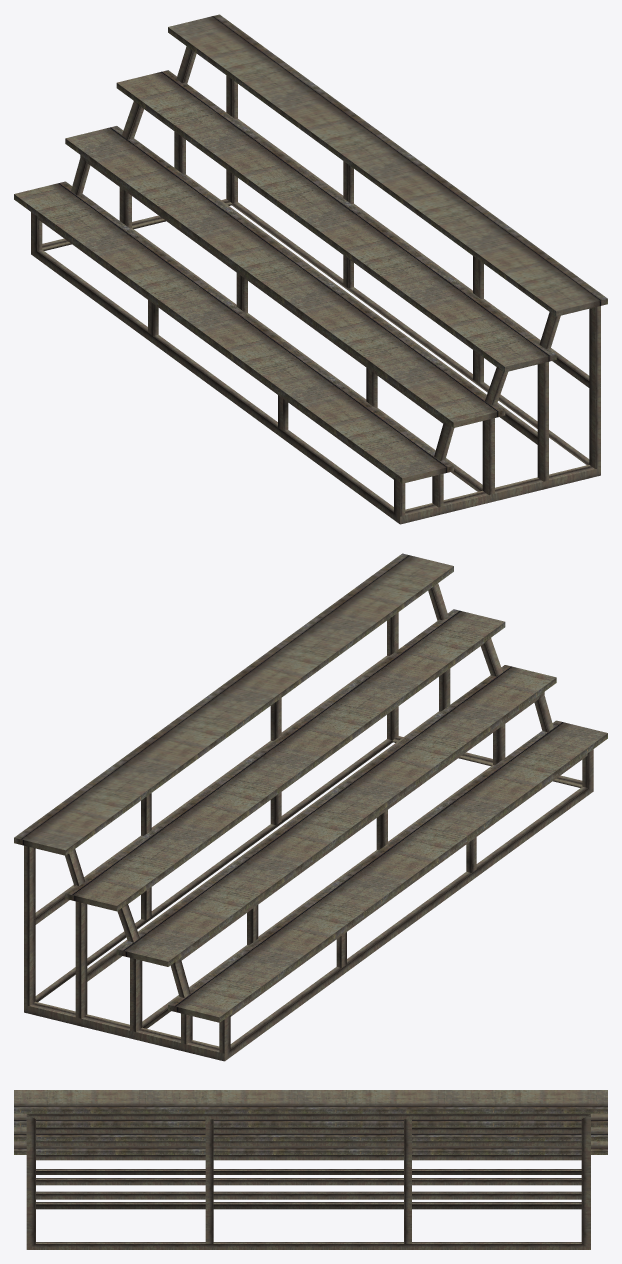
Rendered from BaseBallCourt_Bench.fbx.
3 views of the same model, one above another, from view 1: azimuth 30°, elevation 25°; view 2: azimuth 150°, elevation 25°; view 3: azimuth 270°, elevation 25° (orthographic). The views are drawn at different scales.
Parts seen in each view (by area): view 1: BaseBallCourt_Bench; view 2: BaseBallCourt_Bench; view 3: BaseBallCourt_Bench.
Part boxes in pixels (x1,y1,x2,y2): BaseBallCourt_Bench: (14,14,607,524); BaseBallCourt_Bench: (14,553,607,1061); BaseBallCourt_Bench: (14,1090,607,1249).
Bounding box in the file's own units: 226 × 191 × 735.
